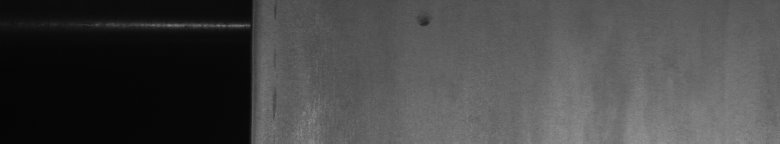fi: (417, 12, 436, 32)
